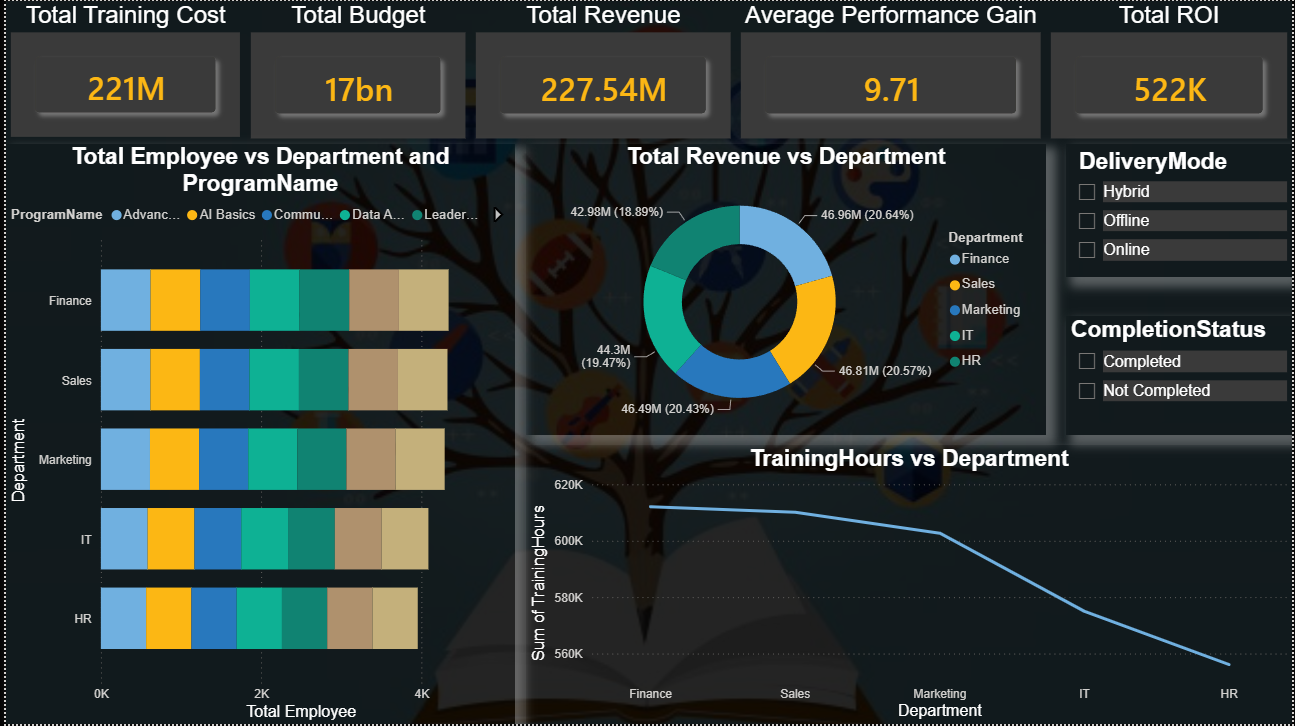

The dashboard page shown, as its layout file describes it:
{"tool":"powerbi","page":{"name":"Overview","canvas":[1280,720],"ordinal":0},"visuals":[{"type":"cardVisual","title":"Total Training Cost","fields":{"Data":["LearningDevelopment_Dataset (1).Total Training Cost"]},"box":[0,0,238.8,141.3],"z":0},{"type":"cardVisual","title":"Total Budget","fields":{"Data":["LearningDevelopment_Dataset (1).Total Budget"]},"box":[238.8,0,223.9,141.8],"z":1000},{"type":"cardVisual","title":"Total Revenue","fields":{"Data":["LearningDevelopment_Dataset (1).Total Revenue"]},"box":[462.8,0,263.7,141.8],"z":2000},{"type":"donutChart","title":"Total Revenue vs Department","fields":{"Category":["LearningDevelopment_Dataset (1).Department"],"Y":["LearningDevelopment_Dataset (1).Total Revenue"]},"box":[517.5,141.8,517.5,289.8],"z":3000},{"type":"barChart","title":"Total Employee vs Department and ProgramName","fields":{"Y":["LearningDevelopment_Dataset (1).Total Employee"],"Category":["LearningDevelopment_Dataset (1).Department"],"Series":["LearningDevelopment_Dataset (1).ProgramName"]},"box":[0,141.8,506.3,578.4],"z":4000},{"type":"cardVisual","title":"Average Performance Gain","fields":{"Data":["LearningDevelopment_Dataset (1).Average_Perfomance_Gain"]},"box":[726.5,0,308.5,141.8],"z":5000},{"type":"cardVisual","title":"Total ROI","fields":{"Data":["LearningDevelopment_Dataset (1).Total ROI"]},"box":[1035,0,245.1,141.8],"z":6000},{"type":"lineChart","title":" TrainingHours vs Department","fields":{"Y":["Sum(LearningDevelopment_Dataset (1).TrainingHours)"],"Category":["LearningDevelopment_Dataset (1).Department"]},"box":[517.5,441.6,762.5,278.6],"z":7000},{"type":"slicer","fields":{"Values":["LearningDevelopment_Dataset (1).DeliveryMode"]},"box":[1054.9,141.8,225.2,133.1],"z":8000},{"type":"slicer","title":"CompletionStatus","fields":{"Values":["LearningDevelopment_Dataset (1).CompletionStatus"]},"box":[1054.9,313.5,225.2,118.2],"z":9000}]}

Visuals, with their boxes in screenshot pixels (x1, y1, x2, y2), scaled from the page's 1280x720 canvas onto the 1295x726 screenshot:
"Total Training Cost" cardVisual: bbox=(0, 0, 242, 142)
"Total Budget" cardVisual: bbox=(242, 0, 468, 143)
"Total Revenue" cardVisual: bbox=(468, 0, 735, 143)
"Total Revenue vs Department" donutChart: bbox=(524, 143, 1047, 435)
"Total Employee vs Department and ProgramName" barChart: bbox=(0, 143, 512, 725)
"Average Performance Gain" cardVisual: bbox=(735, 0, 1047, 143)
"Total ROI" cardVisual: bbox=(1047, 0, 1294, 143)
" TrainingHours vs Department" lineChart: bbox=(524, 445, 1294, 725)
slicer - LearningDevelopment_Dataset (1).DeliveryMode: bbox=(1067, 143, 1294, 277)
"CompletionStatus" slicer: bbox=(1067, 316, 1294, 435)
